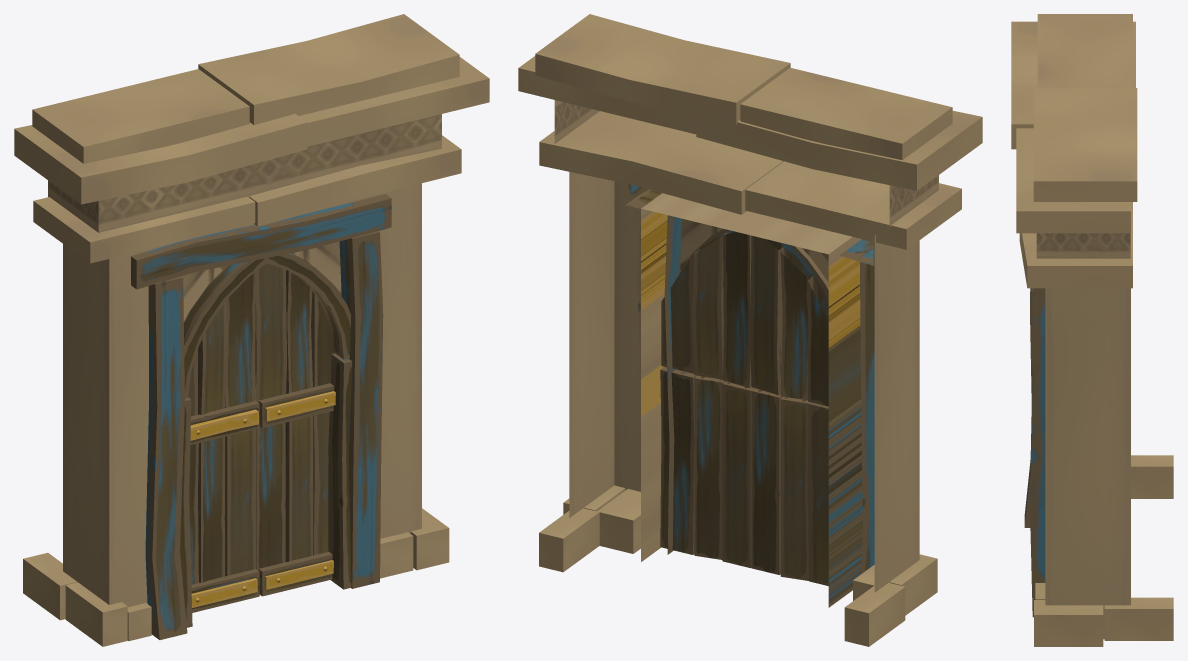
File: A_Addon_Door_A.FBX
3 renders of one model, left to right at view 1: azimuth 30°, elevation 25°; view 2: azimuth 150°, elevation 25°; view 3: azimuth 270°, elevation 25°, orthographic. The views are drawn at different scales.
Parts seen in each view (by area): view 1: A_Addon_Door_A; view 2: A_Addon_Door_A; view 3: A_Addon_Door_A.
Part boxes in pixels (bbox=[...]): A_Addon_Door_A: bbox=[14, 14, 489, 646]; A_Addon_Door_A: bbox=[518, 14, 982, 646]; A_Addon_Door_A: bbox=[1011, 14, 1173, 646].
Bounding box in the file's own units: 251 × 296 × 92.29.
Materials: 1 (1 with a texture image).
